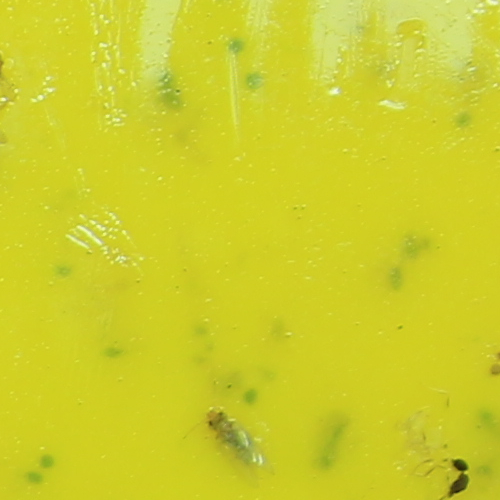psylla: (202, 408, 255, 459)
